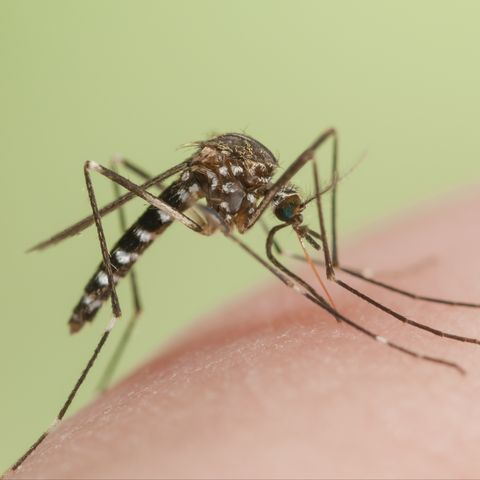mosquito: (32, 122, 470, 427)
